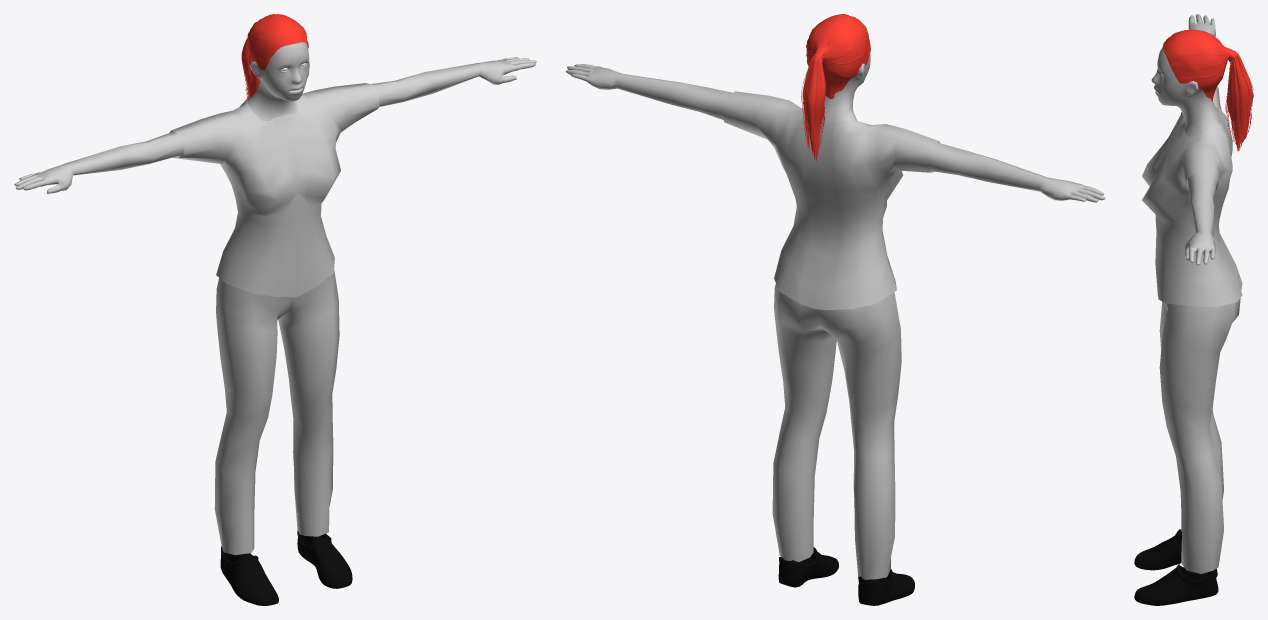
Rendered from kadın 13.obj.
3 renders of one model, left to right at view 1: azimuth 30°, elevation 25°; view 2: azimuth 150°, elevation 25°; view 3: azimuth 270°, elevation 25°, orthographic. The views are drawn at different scales.
Parts seen in each view (by area): view 1: KadÄ±n:Male1591.002, KadÄ±n:Male1591.001, KadÄ±n:Male1591, KadÄ±n:Shoes05, KadÄ±n:Ponytail01; view 2: KadÄ±n:Male1591.002, KadÄ±n:Male1591.001, KadÄ±n:Male1591, KadÄ±n:Ponytail01, KadÄ±n:Shoes05; view 3: KadÄ±n:Male1591.002, KadÄ±n:Male1591.001, KadÄ±n:Male1591, KadÄ±n:Ponytail01, KadÄ±n:Shoes05.
Part boxes in pixels (x1,y1,x2,y2): KadÄ±n:Male1591.002: [214, 269, 339, 555]; KadÄ±n:Male1591.001: [169, 83, 379, 297]; KadÄ±n:Male1591: [14, 42, 536, 194]; KadÄ±n:Shoes05: [220, 530, 352, 605]; KadÄ±n:Ponytail01: [241, 14, 308, 98]; KadÄ±n:Male1591.002: [772, 284, 901, 579]; KadÄ±n:Male1591.001: [722, 91, 940, 310]; KadÄ±n:Male1591: [565, 54, 1105, 202]; KadÄ±n:Ponytail01: [801, 14, 870, 161]; KadÄ±n:Shoes05: [778, 547, 914, 605]; KadÄ±n:Male1591.002: [1159, 298, 1240, 573]; KadÄ±n:Male1591.001: [1142, 86, 1242, 306]; KadÄ±n:Male1591: [1151, 14, 1222, 265]; KadÄ±n:Ponytail01: [1162, 29, 1253, 151]; KadÄ±n:Shoes05: [1134, 529, 1218, 605].
Bounding box in the file's own units: 16.07 × 16.52 × 3.24.
